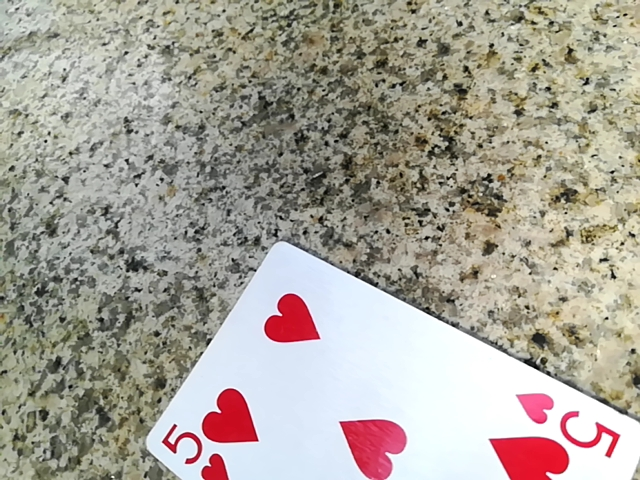hx 5: (132, 229, 637, 479)
